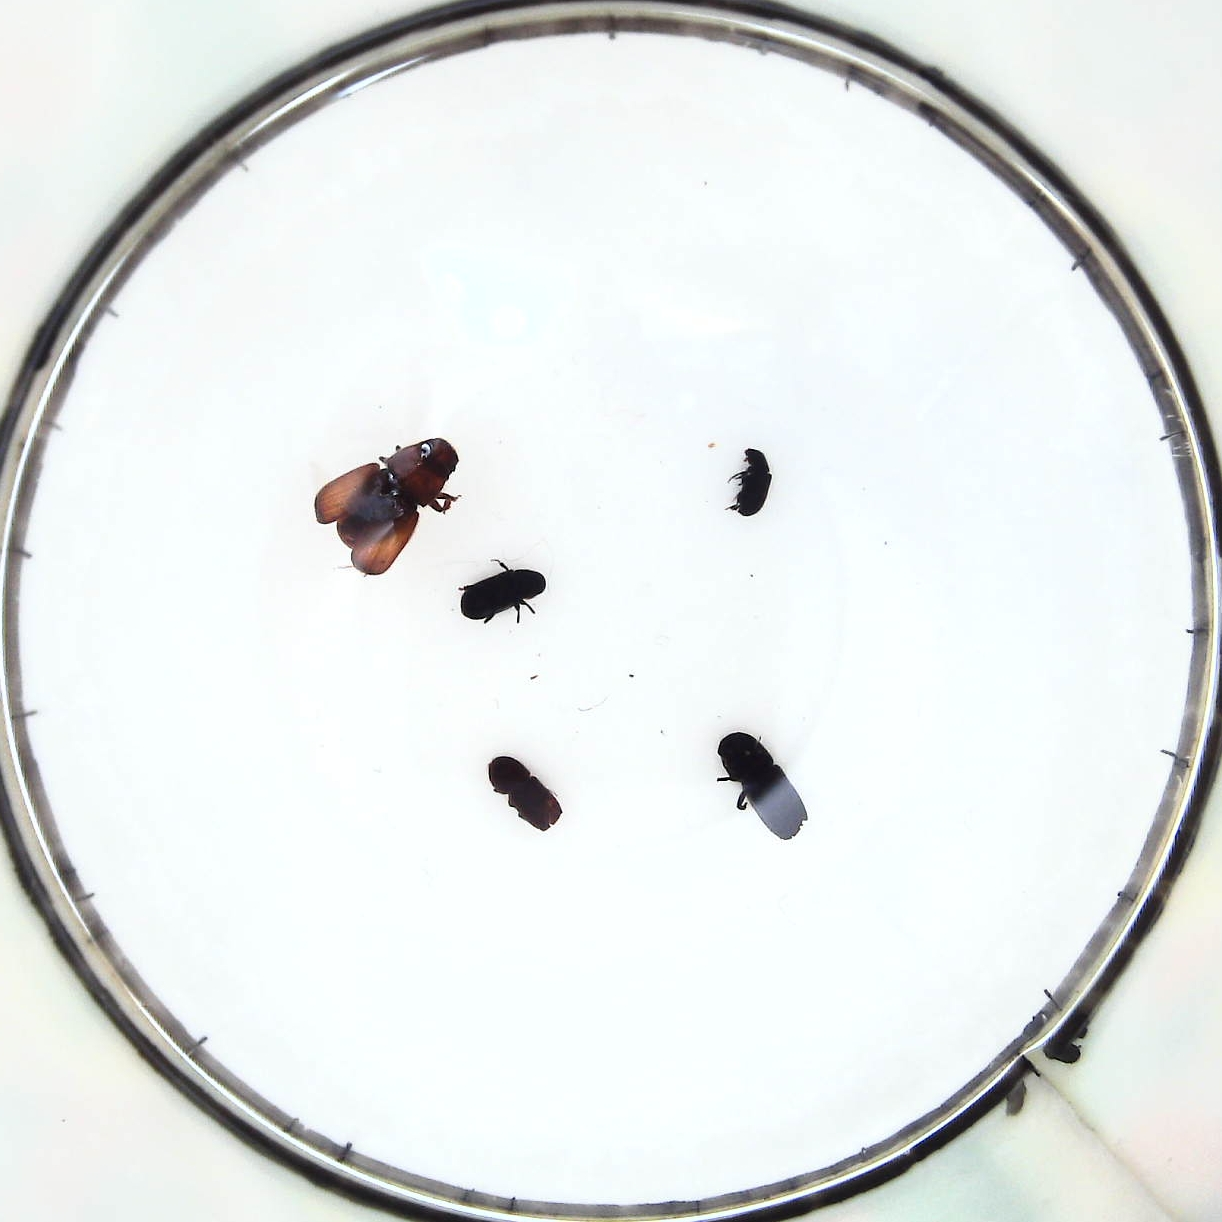Boerner: (714, 733, 814, 843)
Leconte: (314, 435, 463, 582)
Linnaeus: (485, 750, 561, 828)
armandi: (461, 562, 546, 623)
coleoptera: (736, 440, 778, 523)
